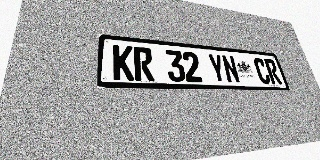2: (182, 51, 203, 82)
3: (165, 49, 186, 82)
C: (252, 58, 272, 84)
K: (113, 45, 134, 81)
N: (221, 55, 241, 83)
R: (133, 46, 155, 81), (264, 59, 283, 84)
Y: (207, 53, 227, 83)
